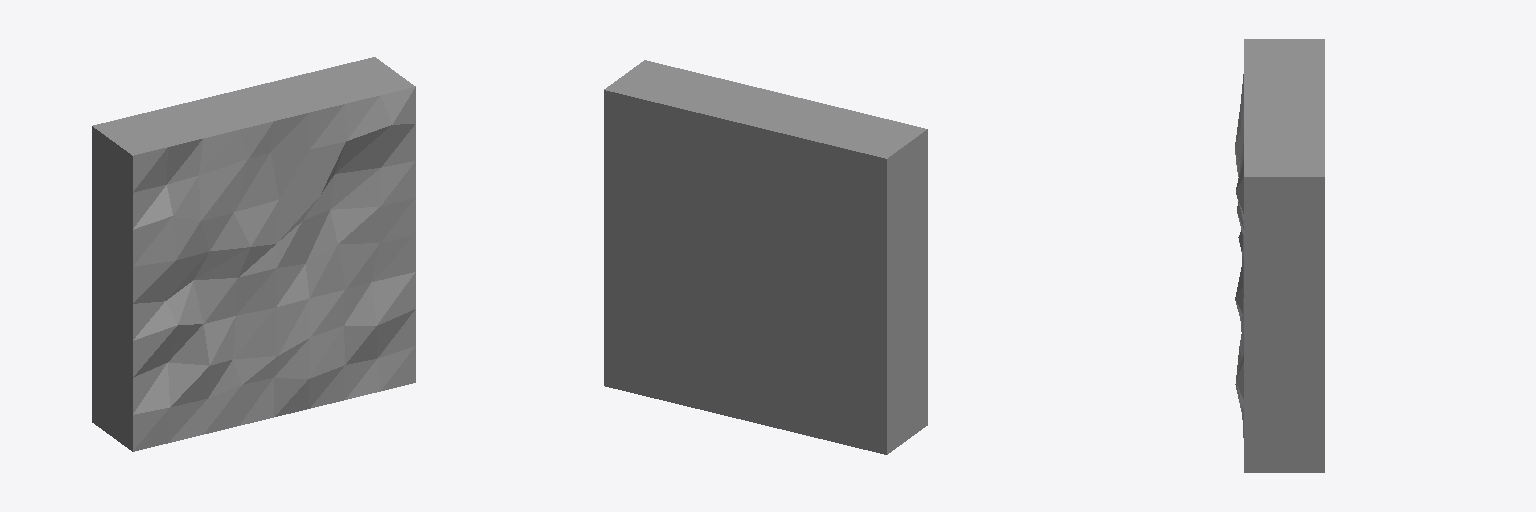
The model's file is startOpen.obj.
3 renders of one model, left to right at view 1: azimuth 30°, elevation 25°; view 2: azimuth 150°, elevation 25°; view 3: azimuth 270°, elevation 25°, orthographic.
Visible parts, largest first — view 1: Cube; view 2: Cube; view 3: Cube.
Boxes of the visible parts, x1,y1,x2,y2 form: Cube: [92, 57, 415, 451]; Cube: [604, 60, 927, 454]; Cube: [1235, 39, 1324, 472].
Size of the model in its own units: 2 by 2 by 0.5536.